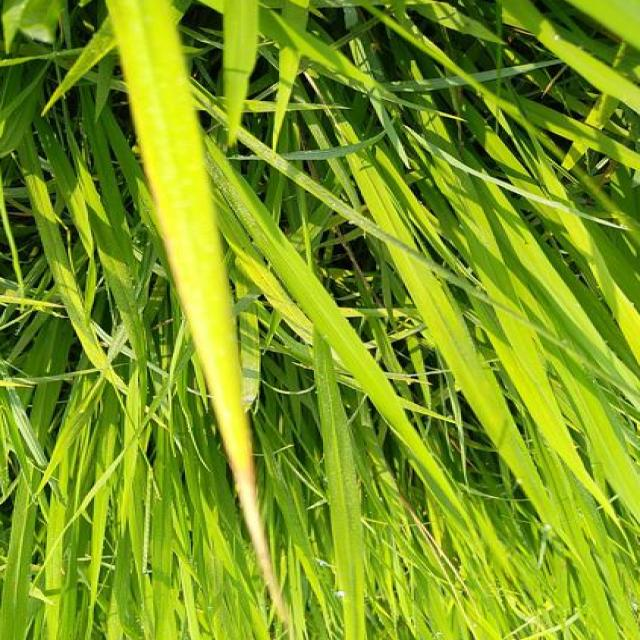Leaf Blight: (105, 0, 284, 618)
